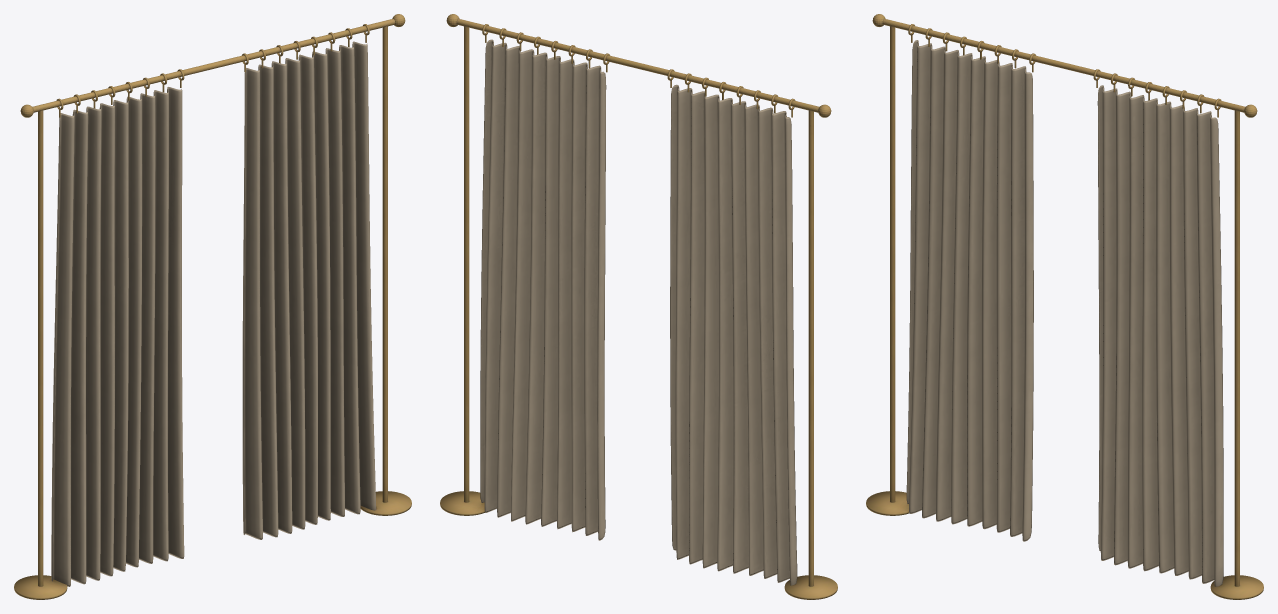
The model's file is linen-open.glb.
3 renders of one model, left to right at view 1: azimuth 30°, elevation 25°; view 2: azimuth 150°, elevation 25°; view 3: azimuth 330°, elevation 25°, orthographic.
Visible parts, largest first — view 1: fabric_primary_curtain, brass; view 2: fabric_primary_curtain, brass; view 3: fabric_primary_curtain, brass.
Part boxes in pixels (x1,y1,x2,y2): fabric_primary_curtain: (51,41,376,586); brass: (14,14,411,599); fabric_primary_curtain: (480,39,797,585); brass: (440,14,837,599); fabric_primary_curtain: (906,40,1223,586); brass: (866,14,1263,599).
Bounding box in the file's own units: 2.04 × 2.43 × 0.24.
2 materials, 2 textured.
